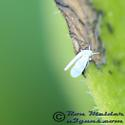whitefly: (61, 45, 102, 80)
